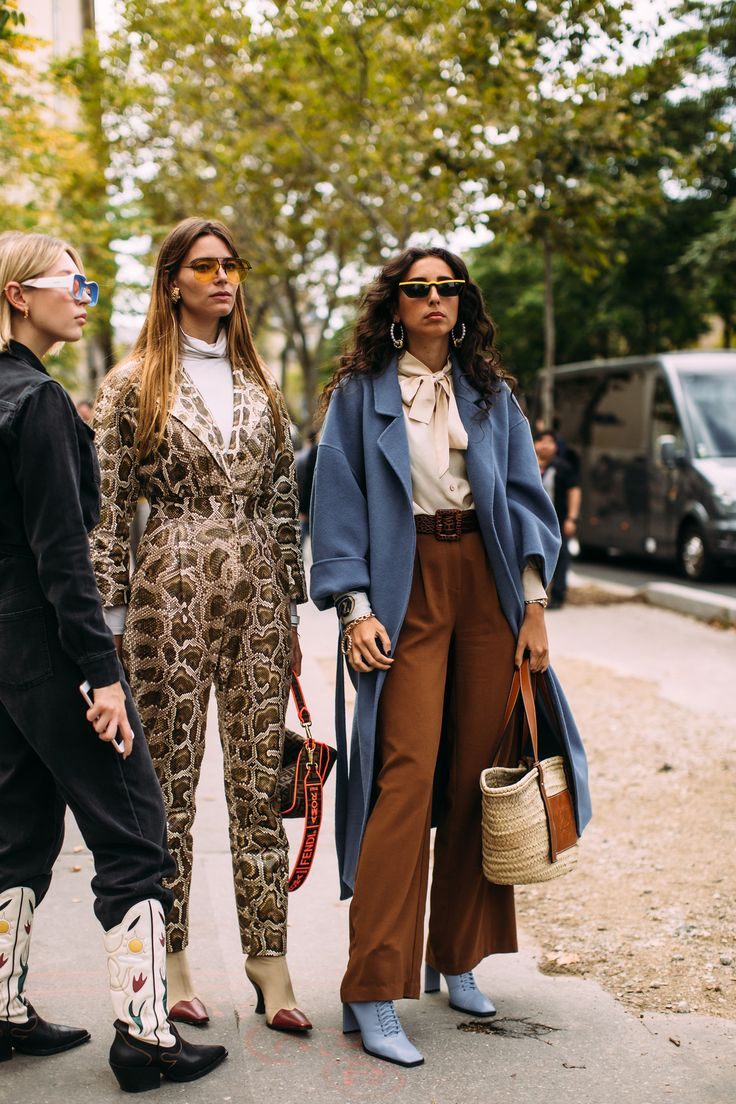Person: (297, 208, 588, 1078), (88, 185, 329, 1049), (10, 214, 240, 1083)
